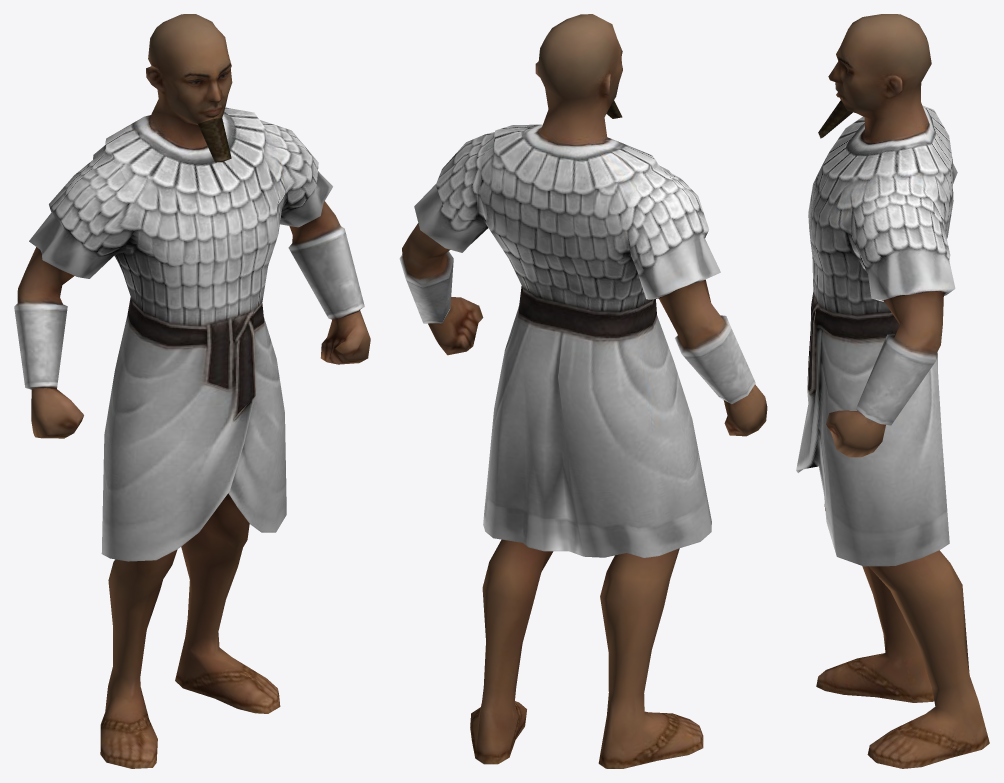
Rendered from rider-slice-heavychariotarchers.glb.
3 views of the same model, side by side, from view 1: azimuth 30°, elevation 25°; view 2: azimuth 150°, elevation 25°; view 3: azimuth 270°, elevation 25° (orthographic).
Bounding box in the file's own units: 0.9978 × 2.04 × 0.5065.
1 material, 1 textured.
